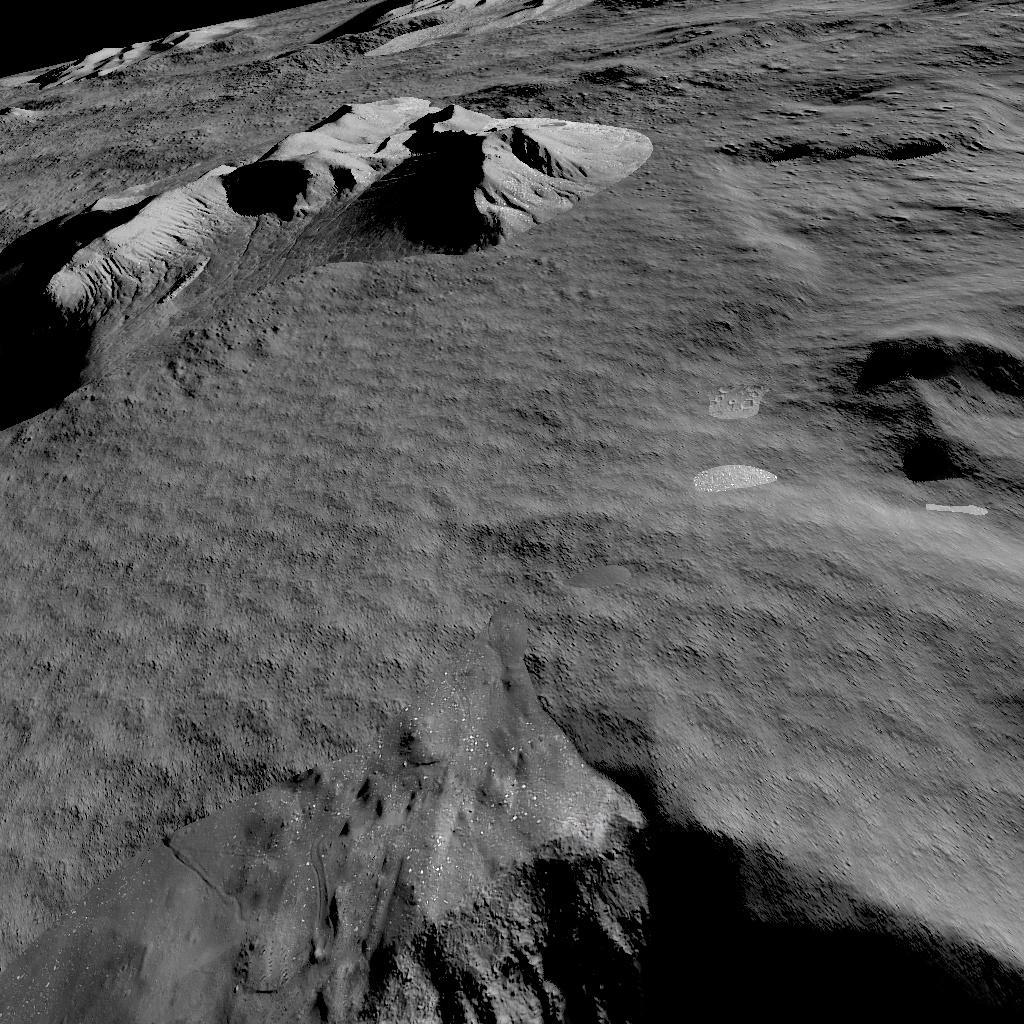Boulders: (0, 0, 654, 400)
Crater: (1, 654, 1024, 1024), (821, 312, 1024, 502), (693, 106, 972, 190)
Plan surface: (15, 430, 793, 622)
